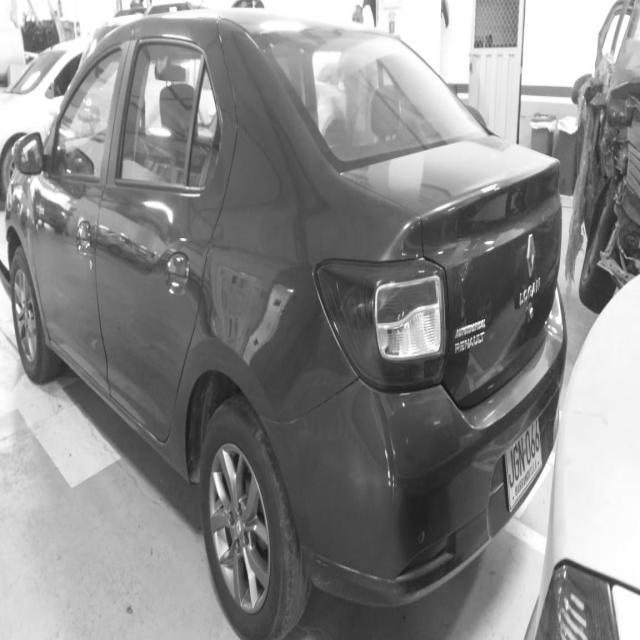plate: (501, 405, 547, 522)
